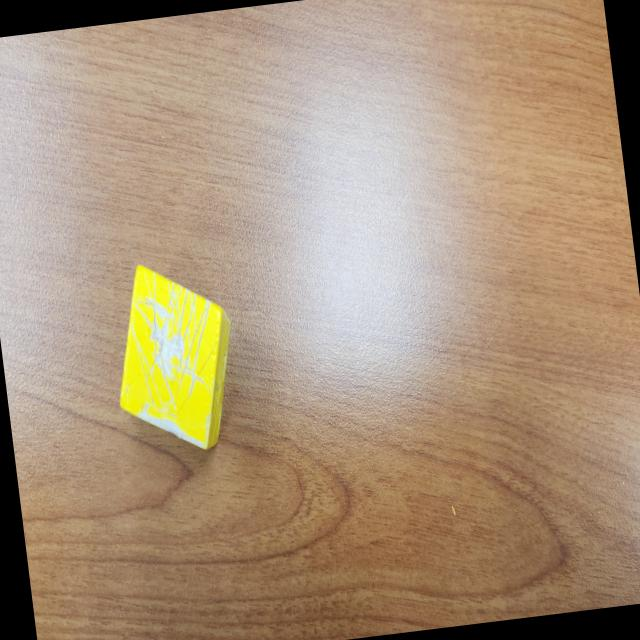broken: (104, 253, 246, 461)
